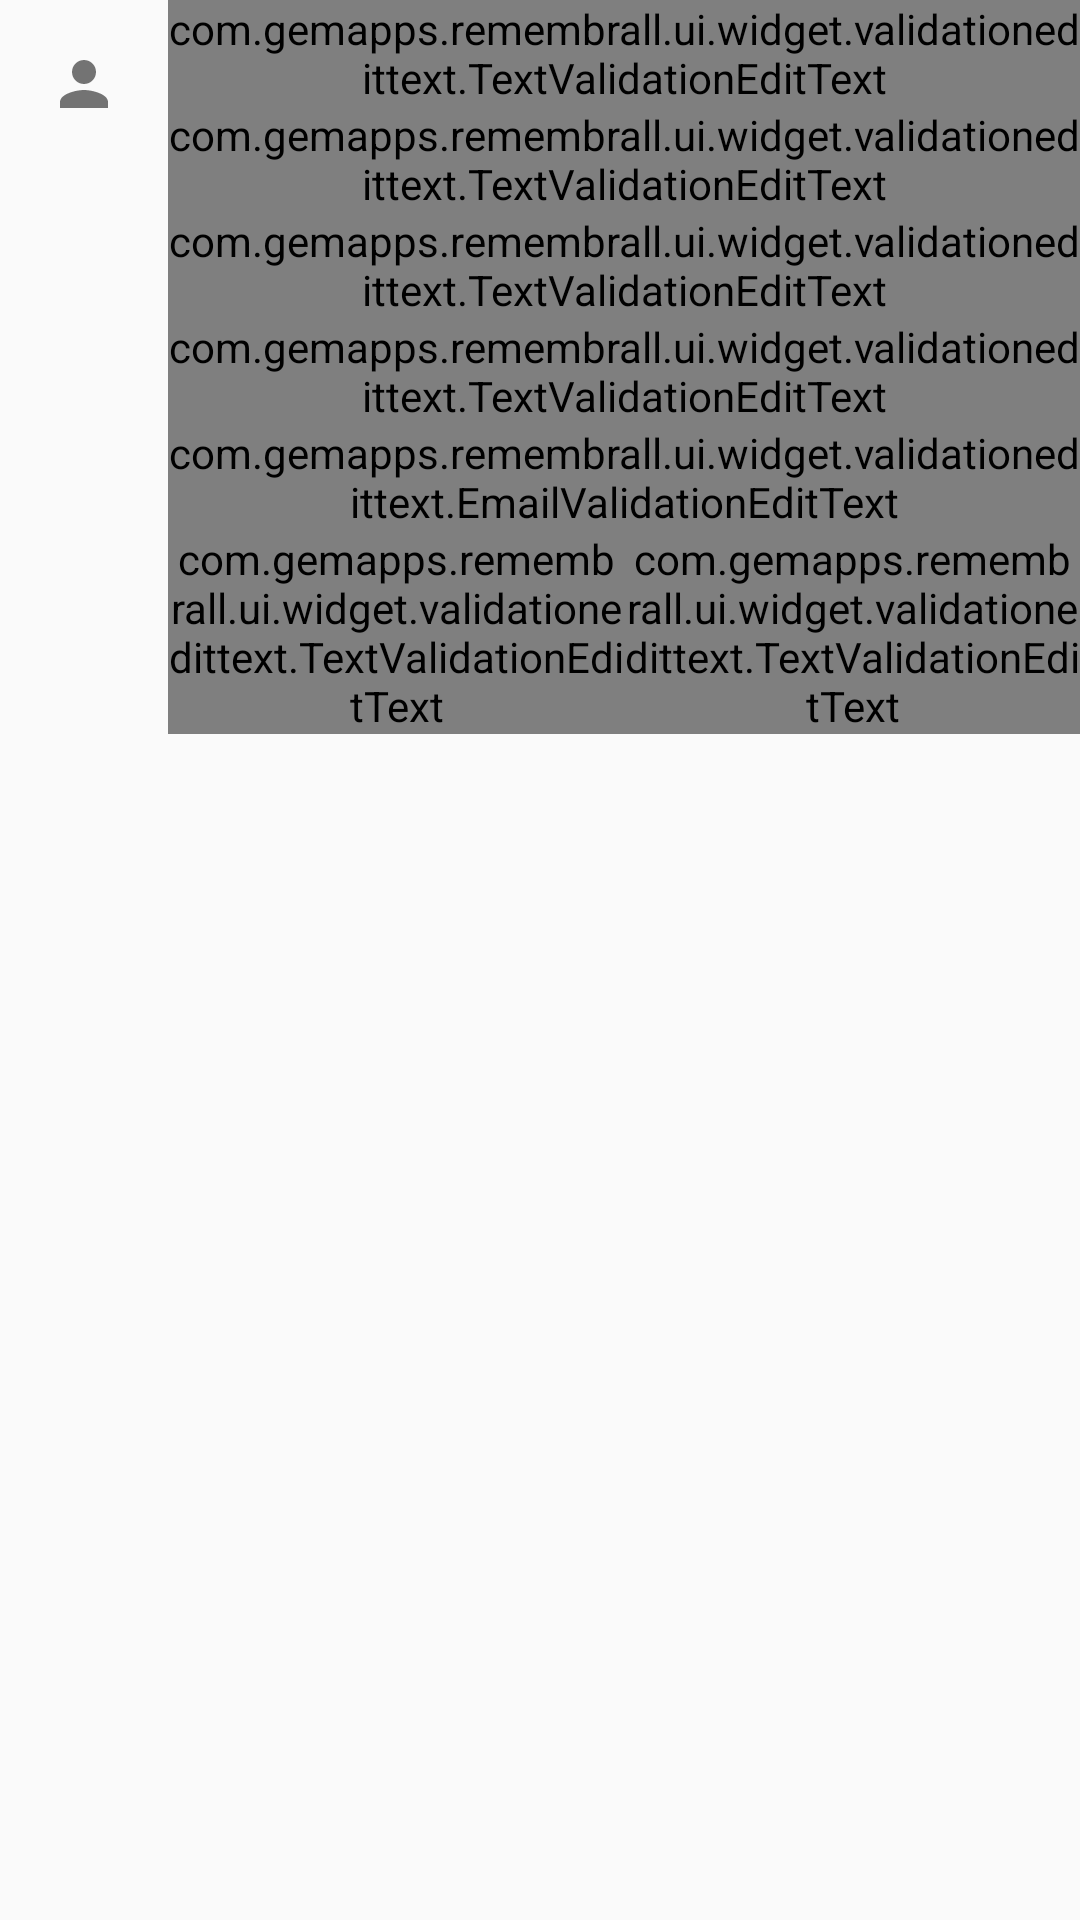

Point at icon controls on the screen. Image size 1080*1920, points as point (x, y).
person: point (84, 84)
